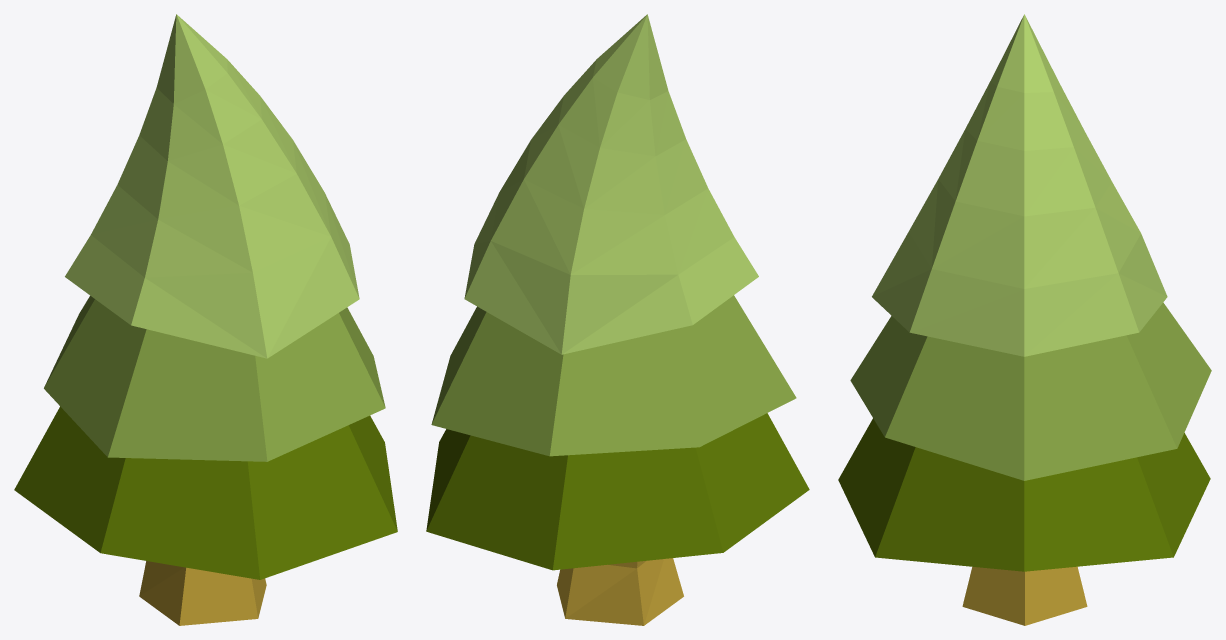
The model's file is tree_v001.fbx.
3 views of the same model, side by side, from view 1: azimuth 30°, elevation 25°; view 2: azimuth 150°, elevation 25°; view 3: azimuth 270°, elevation 25° (orthographic). The views are drawn at different scales.
Parts seen in each view (by area): view 1: pCone2; view 2: pCone2; view 3: pCone2.
Boxes of the visible parts, x1,y1,x2,y2 form: pCone2: (14,14,397,625); pCone2: (426,14,809,625); pCone2: (838,14,1211,625).
Bounding box in the file's own units: 286 × 495 × 294.
